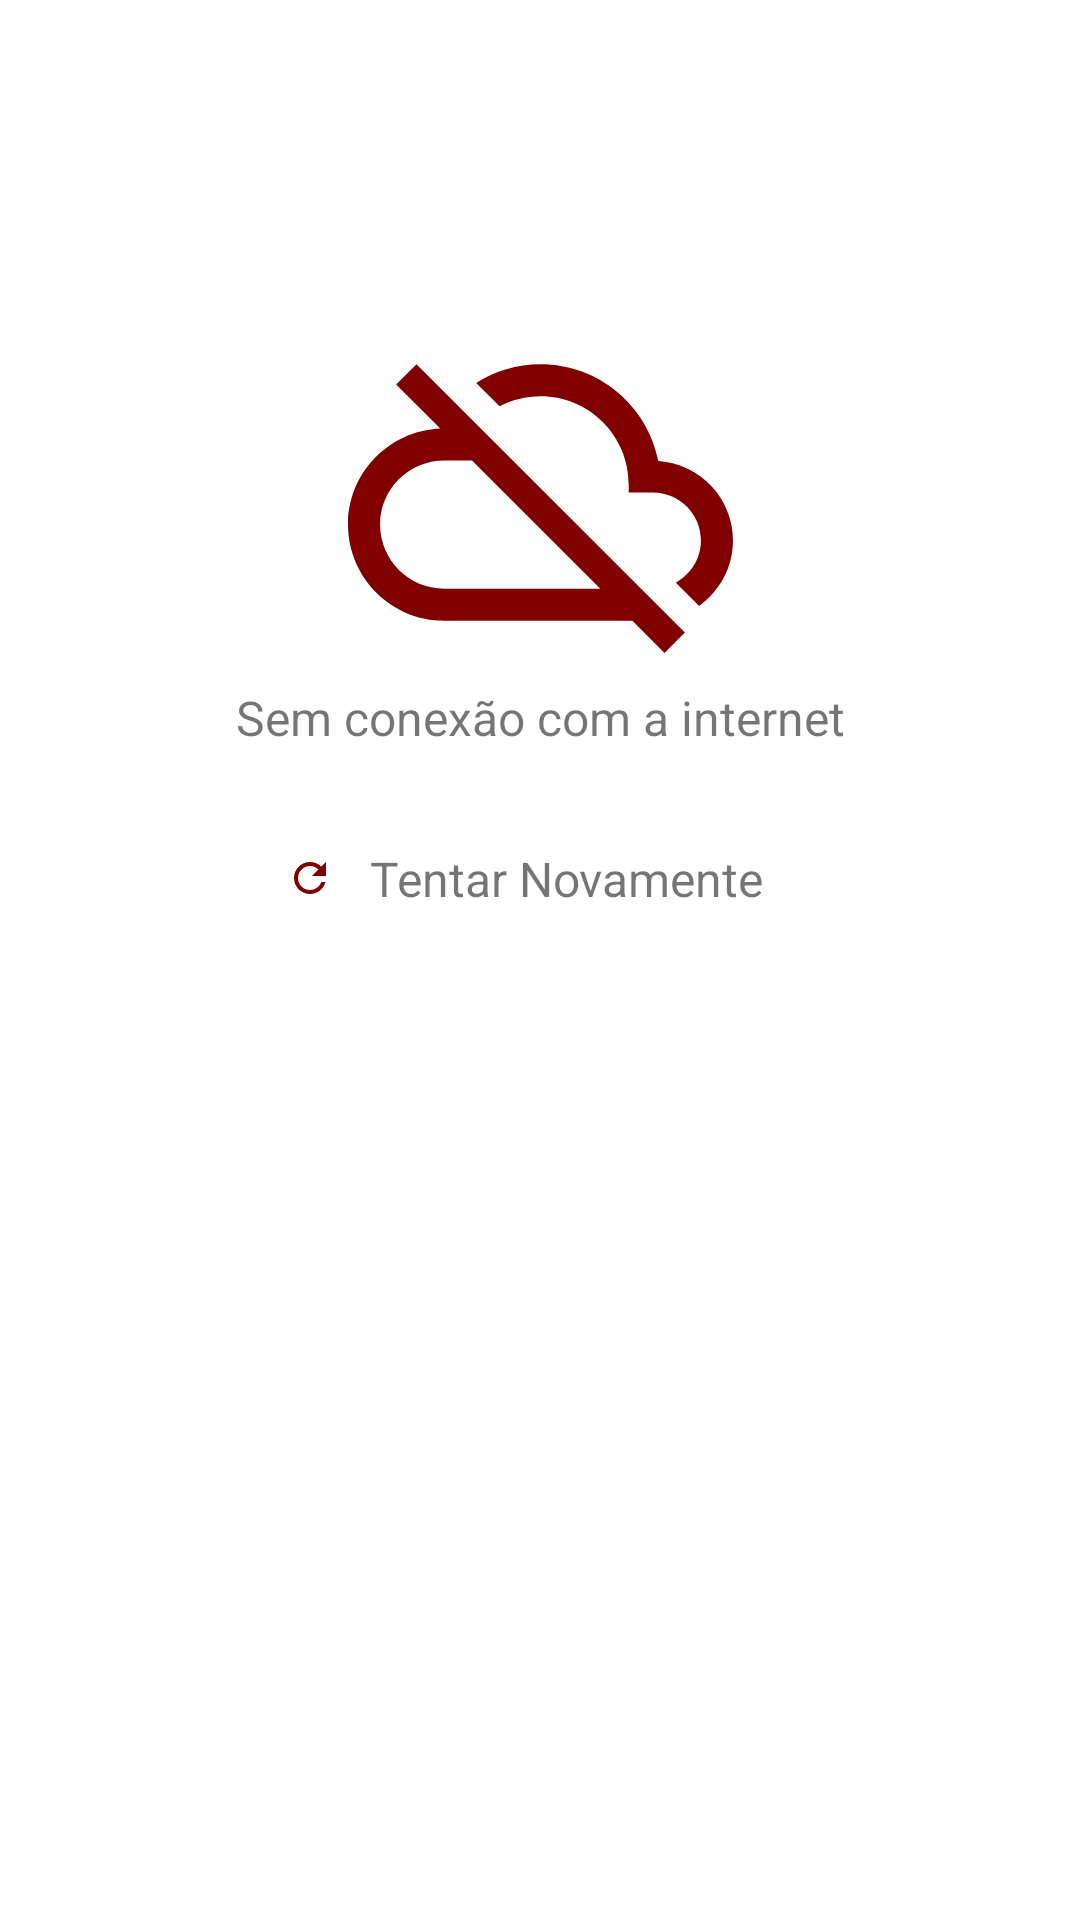

Named icons in this screenshot (1080x1920) and their bounding boxes, Rect(x1, y1, x2, y2):
refresh: Rect(294, 862, 326, 894)
